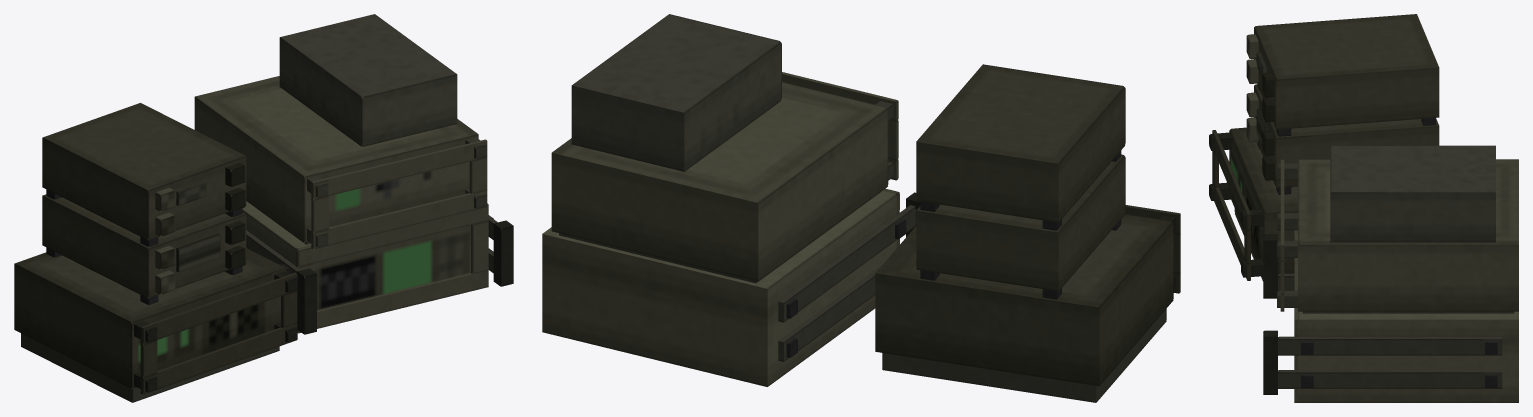
File: militaryradio.obj
3 views of the same model, side by side, from view 1: azimuth 30°, elevation 25°; view 2: azimuth 150°, elevation 25°; view 3: azimuth 270°, elevation 25° (orthographic). The views are drawn at different scales.
Visible parts, largest first — view 1: yourclassnameModel19, yourclassnameModel33, yourclassnameModel47, yourclassnameModel29, yourclassnameModel40, yourclassnameModel0, yourclassnameModel2, yourclassnameModel20, yourclassnameModel21, yourclassnameModel1, yourclassnameModel31, yourclassnameModel34 (+11 smaller); view 2: yourclassnameModel19, yourclassnameModel0, yourclassnameModel33, yourclassnameModel47, yourclassnameModel29, yourclassnameModel40, yourclassnameModel38, yourclassnameModel5, yourclassnameModel9, yourclassnameModel20, yourclassnameModel28; view 3: yourclassnameModel19, yourclassnameModel47, yourclassnameModel29, yourclassnameModel0, yourclassnameModel40, yourclassnameModel7, yourclassnameModel33, yourclassnameModel10, yourclassnameModel8, yourclassnameModel6, yourclassnameModel31, yourclassnameModel34 (+17 smaller).
Boxes of the visible parts, x1,y1,x2,y2 form: yourclassnameModel19: (194,76,478,242); yourclassnameModel33: (14,248,286,388); yourclassnameModel47: (42,103,246,240); yourclassnameModel29: (279,14,457,146); yourclassnameModel40: (42,194,246,298); yourclassnameModel0: (242,201,473,310); yourclassnameModel2: (297,270,488,333); yourclassnameModel20: (311,139,487,199); yourclassnameModel21: (311,190,487,249); yourclassnameModel1: (296,203,488,266); yourclassnameModel31: (140,272,297,344); yourclassnameModel34: (140,323,297,394); yourclassnameModel19: (551,82,888,281); yourclassnameModel0: (542,190,897,386); yourclassnameModel33: (875,214,1173,386); yourclassnameModel47: (916,64,1125,222); yourclassnameModel29: (571,14,781,171); yourclassnameModel40: (916,154,1125,291); yourclassnameModel38: (882,309,1166,402); yourclassnameModel5: (778,205,916,322); yourclassnameModel9: (778,264,882,361); yourclassnameModel20: (782,72,898,121); yourclassnameModel28: (559,192,880,283); yourclassnameModel19: (1298,159,1518,311); yourclassnameModel47: (1254,14,1439,129); yourclassnameModel29: (1330,145,1495,242); yourclassnameModel0: (1298,311,1518,402); yourclassnameModel40: (1254,84,1439,187); yourclassnameModel7: (1278,336,1502,355); yourclassnameModel33: (1229,127,1297,273); yourclassnameModel10: (1278,370,1502,388); yourclassnameModel8: (1263,330,1277,394); yourclassnameModel6: (1263,234,1277,298); yourclassnameModel31: (1212,130,1250,230); yourclassnameModel34: (1212,181,1250,280).
Bounding box in the file's own units: 26.88 × 12.25 × 16.84.
